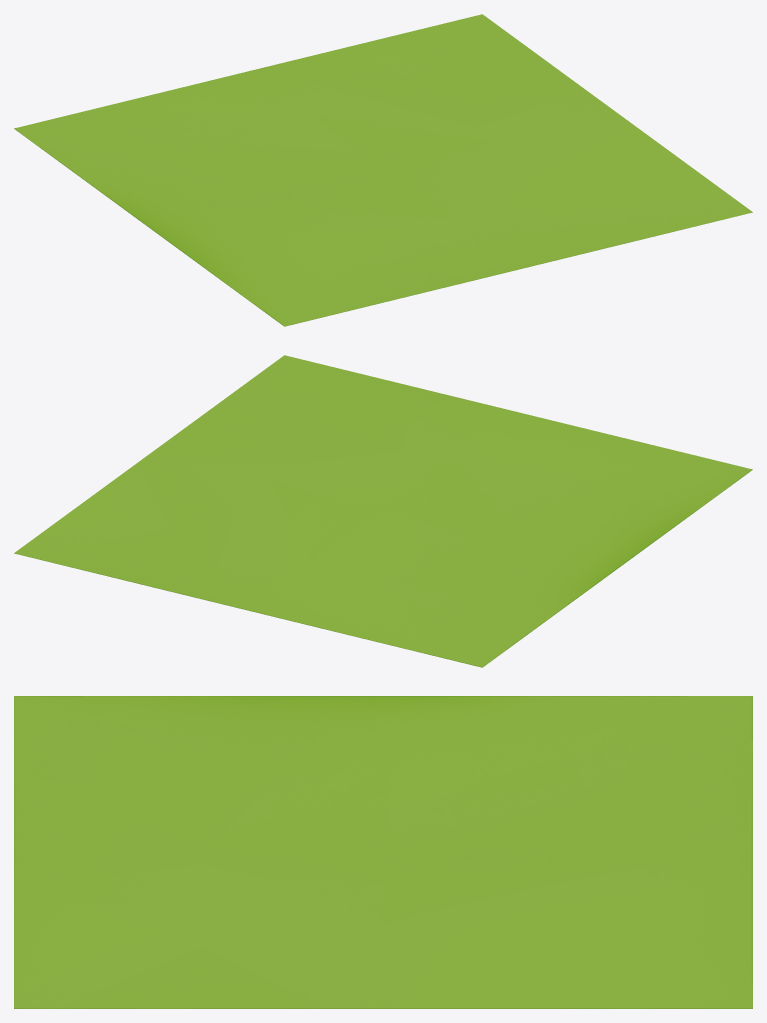
File: ground_3.glb
3 renders of one model, top to bottom at view 1: azimuth 30°, elevation 25°; view 2: azimuth 150°, elevation 25°; view 3: azimuth 270°, elevation 25°, orthographic. The views are drawn at different scales.
Visible parts, largest first — view 1: groundbase; view 2: groundbase; view 3: groundbase.
Part boxes in pixels (<box>): groundbase: <box>14,14,752,326</box>; groundbase: <box>14,355,752,667</box>; groundbase: <box>14,696,752,1008</box>.
Bounding box in the file's own units: 2 × 0.0093 × 2.
Materials: 1 (1 with a texture image).
